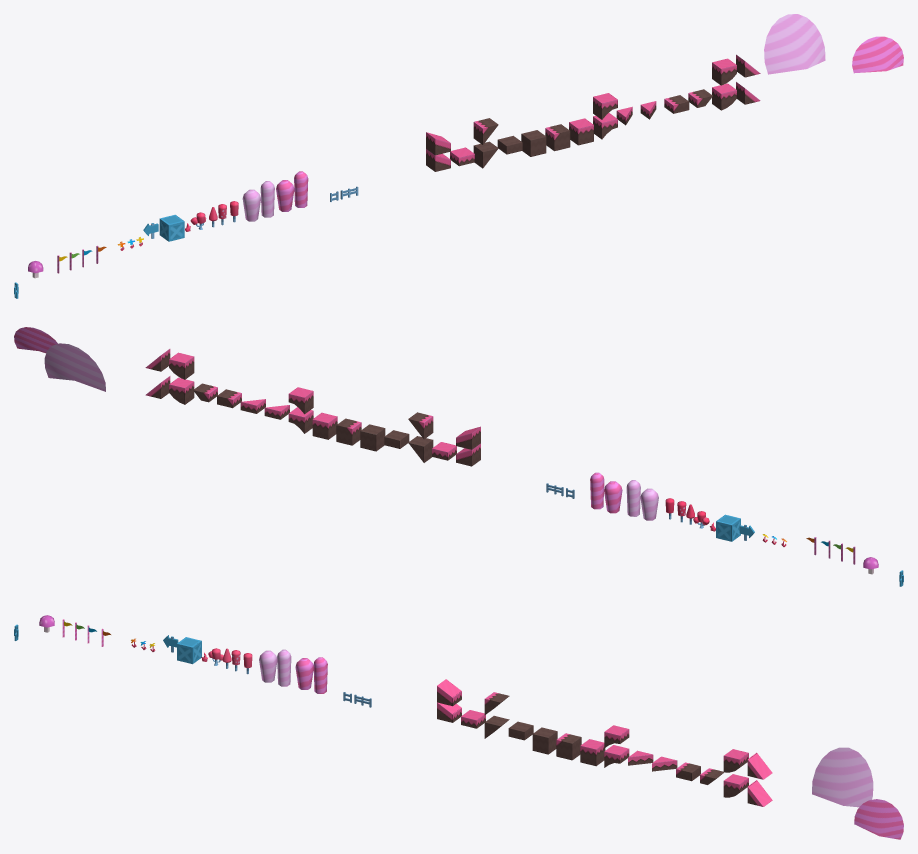
File: TileTool MDL Candy Style.fbx
3 views of the same model, one above another, from view 1: azimuth 30°, elevation 25°; view 2: azimuth 150°, elevation 25°; view 3: azimuth 330°, elevation 25° (orthographic).
Visible parts, largest first — view 1: Candy_BG_Hill01, Candy_BG_Hill02, Candy_OB_Crate01, Candy_SQ_Dirt, Candy_SQ_SlopeEnd; view 2: Candy_BG_Hill01, Candy_BG_Hill02, Candy_SQ_Square, Candy_SQ_Dirt, Candy_SQ_SlopeEnd, Candy_OB_Crate01, Candy_SQ_Arch_Z, Candy_SQ_Arch_X; view 3: Candy_BG_Hill01, Candy_BG_Hill02, Candy_SQ_Dirt, Candy_SQ_SlopeEnd, Candy_SQ_Square, Candy_OB_Crate01, Candy_SQ_Slope2PL_Z, Candy_OB_Hill03, Candy_OB_Hill04, Candy_OB_Hill02, Candy_OB_Hill01, Candy_SQ_Arch_X (+1 smaller).
Part boxes in pixels (bbox=[...]): Candy_BG_Hill01: bbox=[764, 14, 825, 74]; Candy_BG_Hill02: bbox=[852, 36, 903, 73]; Candy_OB_Crate01: bbox=[159, 214, 184, 241]; Candy_SQ_Dirt: bbox=[521, 130, 546, 156]; Candy_SQ_SlopeEnd: bbox=[545, 124, 570, 151]; Candy_BG_Hill01: bbox=[44, 343, 105, 391]; Candy_BG_Hill02: bbox=[14, 327, 57, 353]; Candy_SQ_Square: bbox=[312, 412, 337, 439]; Candy_SQ_Dirt: bbox=[360, 424, 385, 451]; Candy_SQ_SlopeEnd: bbox=[336, 418, 361, 445]; Candy_OB_Crate01: bbox=[716, 514, 740, 541]; Candy_SQ_Arch_Z: bbox=[169, 352, 194, 379]; Candy_SQ_Arch_X: bbox=[169, 377, 194, 404]; Candy_BG_Hill01: bbox=[812, 747, 873, 807]; Candy_BG_Hill02: bbox=[854, 799, 903, 839]; Candy_SQ_Dirt: bbox=[532, 727, 557, 754]; Candy_SQ_SlopeEnd: bbox=[556, 733, 581, 760]; Candy_SQ_Square: bbox=[580, 739, 605, 766]; Candy_OB_Crate01: bbox=[177, 637, 201, 664]; Candy_SQ_Slope2PL_Z: bbox=[437, 679, 461, 706]; Candy_OB_Hill03: bbox=[259, 650, 277, 682]; Candy_OB_Hill04: bbox=[277, 649, 291, 686]; Candy_OB_Hill02: bbox=[295, 658, 313, 689]; Candy_OB_Hill01: bbox=[313, 657, 327, 693]; Candy_SQ_Arch_X: bbox=[723, 774, 748, 797].
Size of the model in its own units: 5590 by 403 by 372.
1 material, 1 textured.
